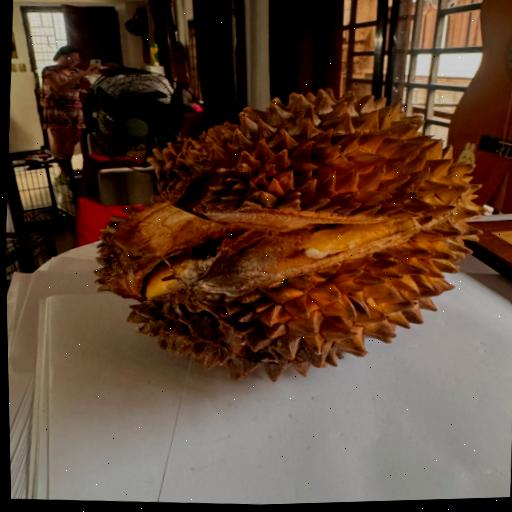rot: (68, 58, 509, 399)
